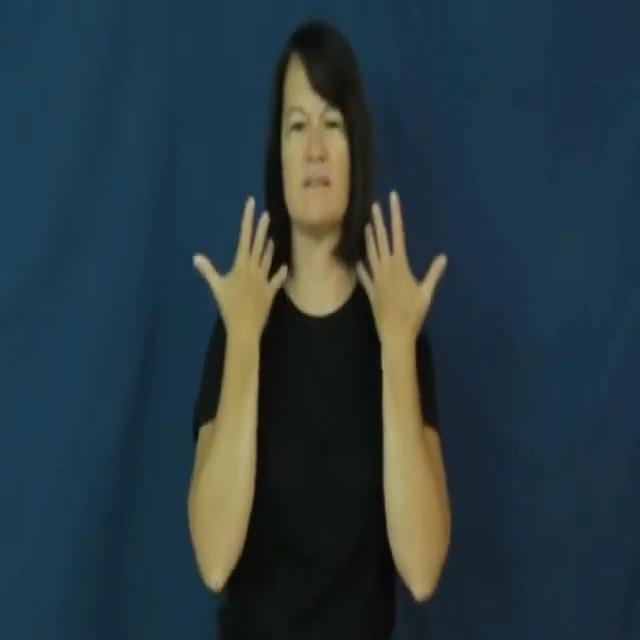cold: (184, 174, 454, 366)
